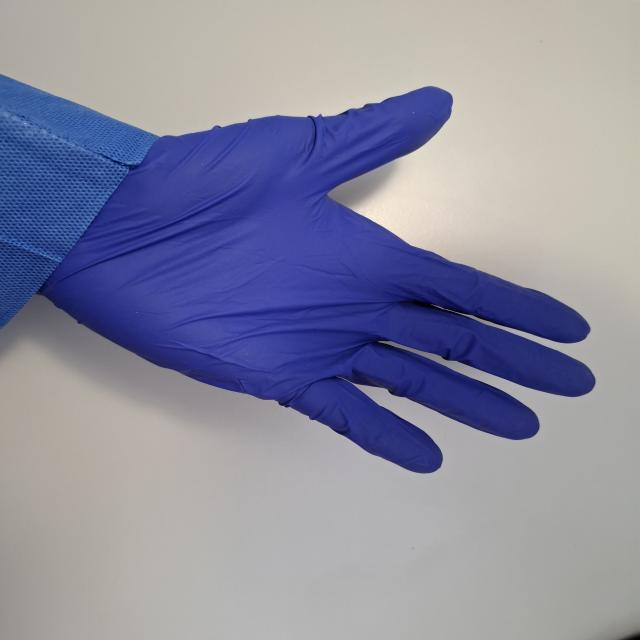glove_on: (30, 83, 602, 476)
